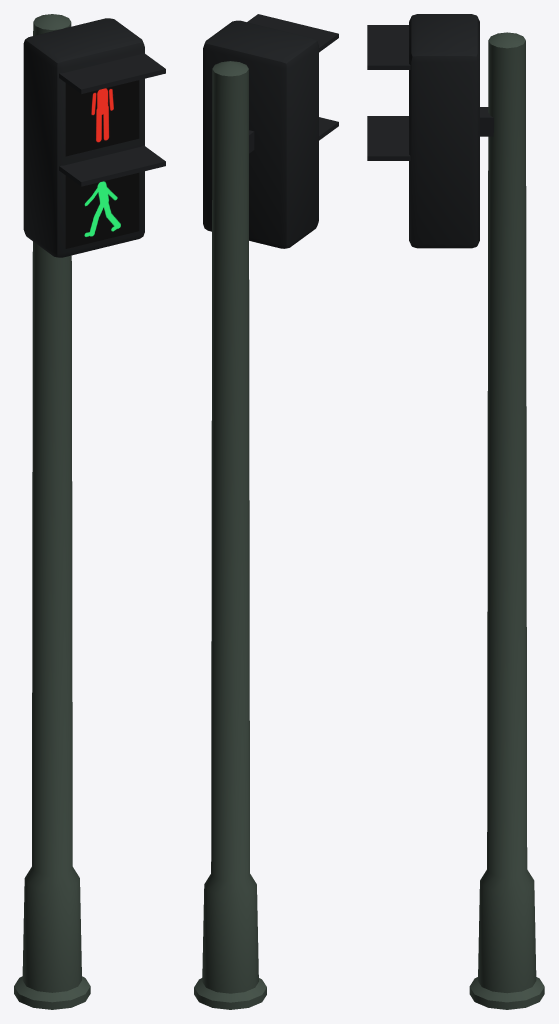
Rendered from pedestrian-light.glb.
3 renders of one model, left to right at view 1: azimuth 30°, elevation 25°; view 2: azimuth 150°, elevation 25°; view 3: azimuth 270°, elevation 25°, orthographic. The views are drawn at different scales.
Visible parts, largest first — view 1: pedestrian-light; view 2: pedestrian-light; view 3: pedestrian-light.
Boxes of the visible parts, <box> form: pedestrian-light: <box>14,14,165,1009</box>; pedestrian-light: <box>194,14,338,1009</box>; pedestrian-light: <box>367,14,544,1009</box>.
Size of the model in its own units: 0.25 by 2.54 by 0.425.
4 materials, 2 textured.
